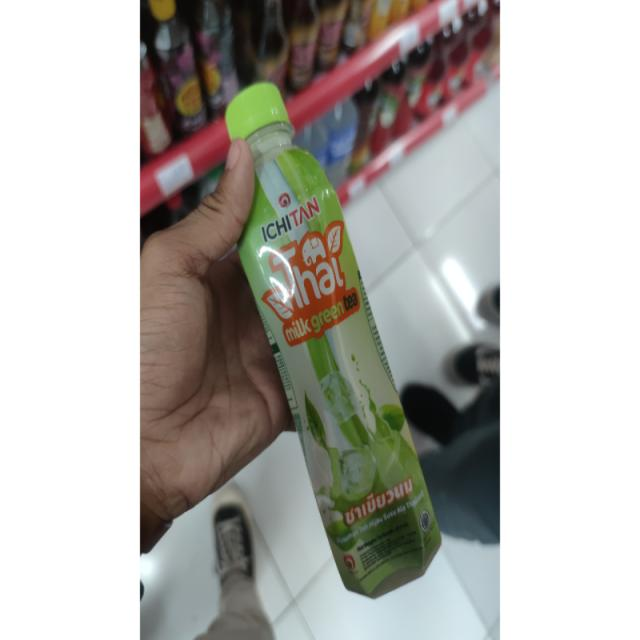botol: (190, 70, 466, 619)
